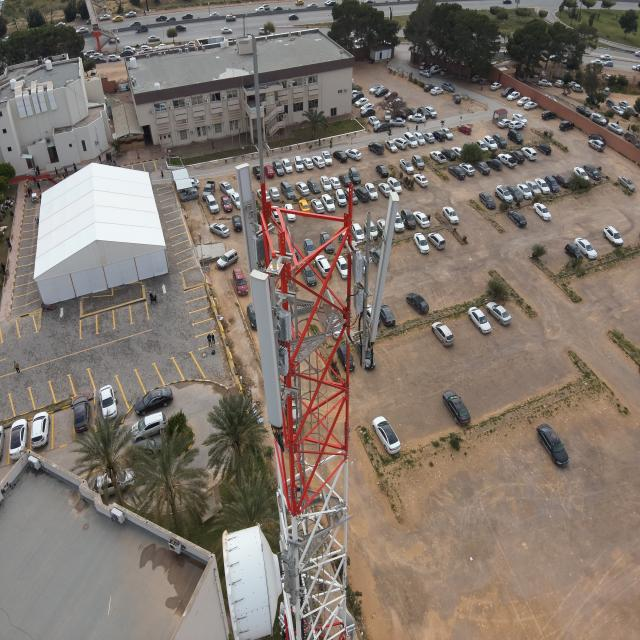Ground Based: (235, 30, 360, 640)
